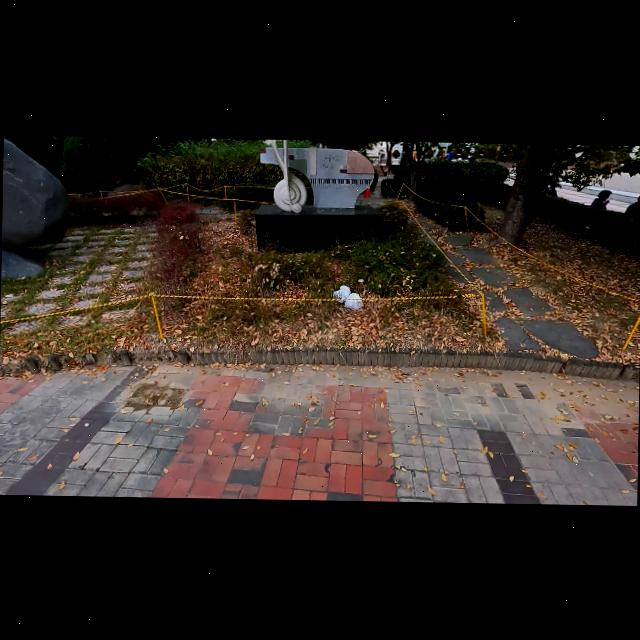trash: (342, 290, 365, 314), (330, 284, 350, 304)
